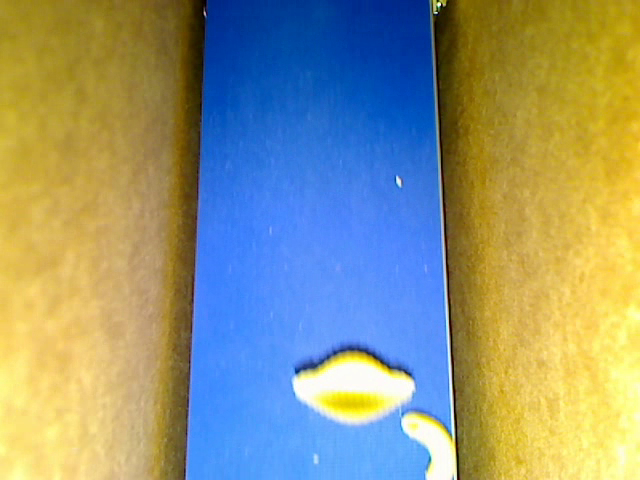elbow: (400, 410, 457, 479)
shell: (290, 348, 416, 426)
